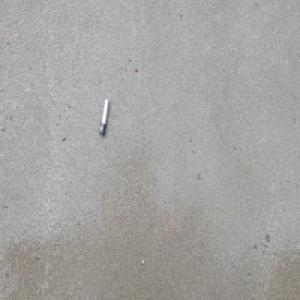Battery: (98, 97, 108, 137)
